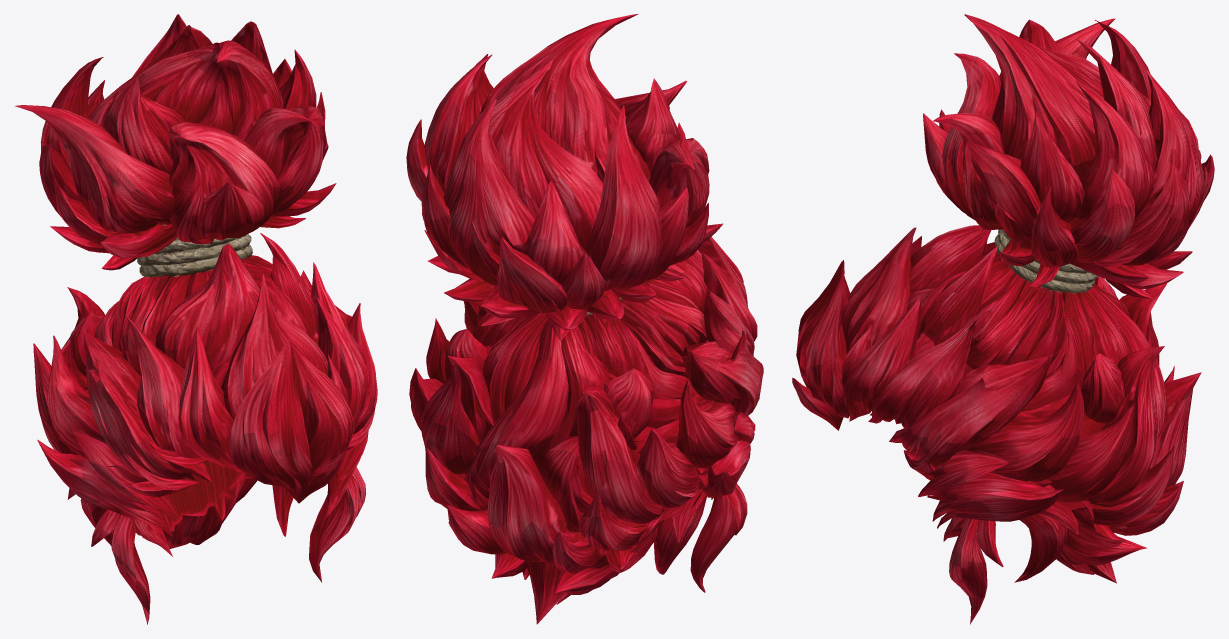
The model's file is akuma-hair.glb.
The picture shows the model from 3 angles, left to right: view 1: azimuth 30°, elevation 25°; view 2: azimuth 150°, elevation 25°; view 3: azimuth 270°, elevation 25°; orthographic projection. The views are drawn at different scales.
Visible parts, largest first — view 1: output_unwrapped; view 2: output_unwrapped; view 3: output_unwrapped.
Part boxes in pixels (x1,y1,x2,y2): output_unwrapped: (15, 14, 377, 624); output_unwrapped: (406, 14, 763, 624); output_unwrapped: (792, 14, 1214, 624).
Bounding box in the file's own units: 1.11 × 1.9 × 1.3.
Materials: 1 (1 with a texture image).
